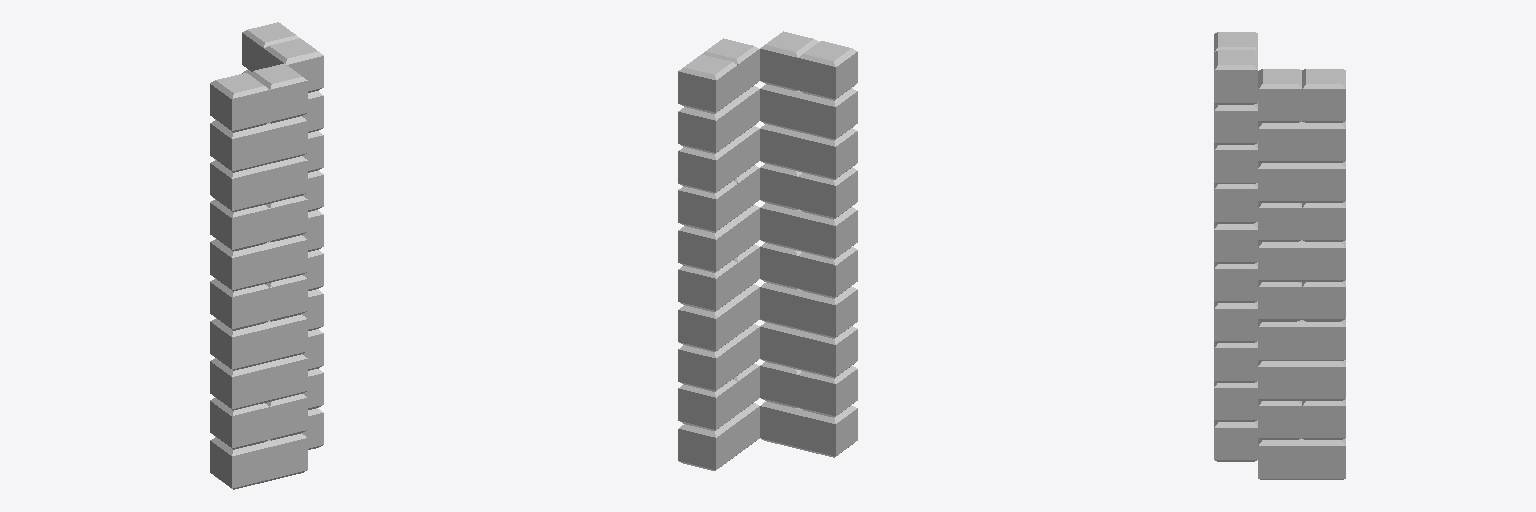
File: Edge wall.obj
3 renders of one model, left to right at view 1: azimuth 30°, elevation 25°; view 2: azimuth 150°, elevation 25°; view 3: azimuth 270°, elevation 25°, orthographic.
Visible parts, largest first — view 1: obj_0.021; view 2: obj_0.021; view 3: obj_0.021.
Boxes of the visible parts, x1,y1,x2,y2 form: obj_0.021: [210, 22, 323, 489]; obj_0.021: [678, 31, 857, 470]; obj_0.021: [1214, 32, 1345, 479].
Size of the model in its own units: 30 by 100 by 30.